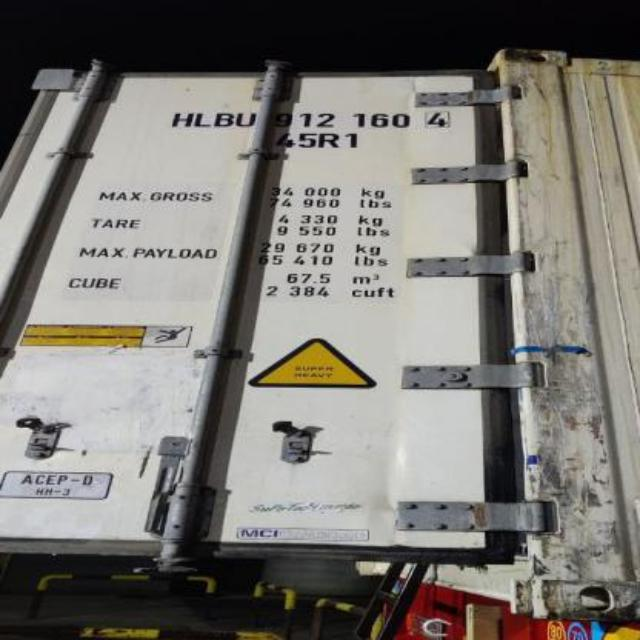0: (392, 112, 410, 128)
1: (298, 112, 312, 128), (352, 114, 366, 128)
2: (317, 112, 335, 128)
4: (427, 112, 447, 128)
6: (372, 114, 390, 128)
9: (273, 112, 293, 128)
B: (217, 114, 233, 126)
H: (175, 114, 191, 126)
L: (195, 112, 211, 128)
U: (238, 112, 256, 126)
